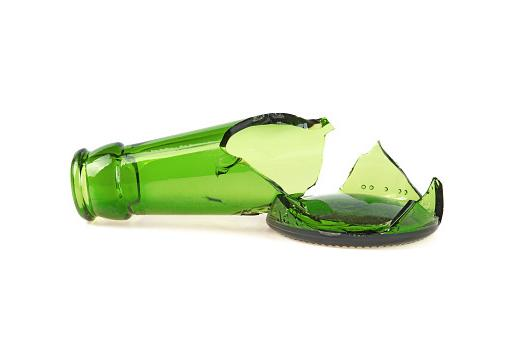Glass: (60, 111, 444, 254)
